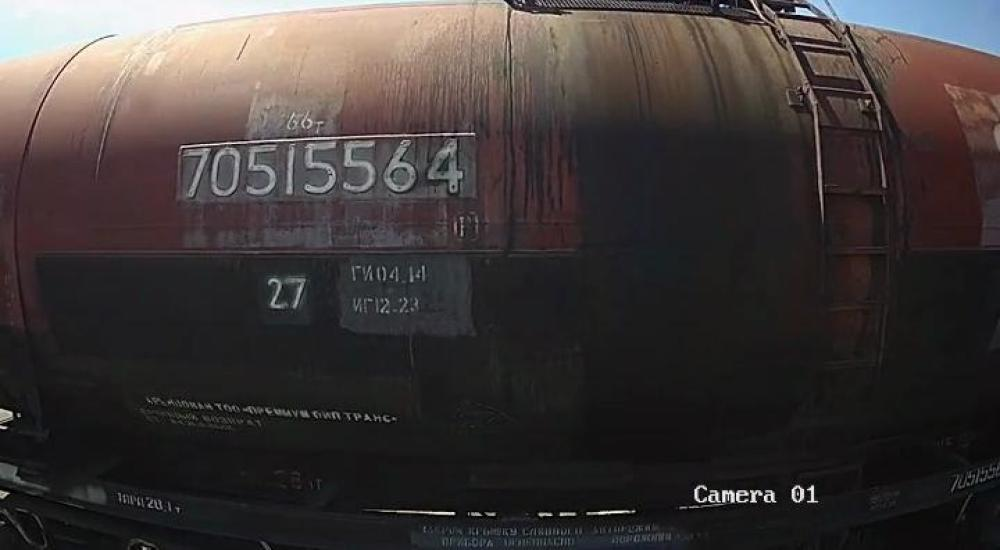Wagon-number: (182, 134, 467, 198)
